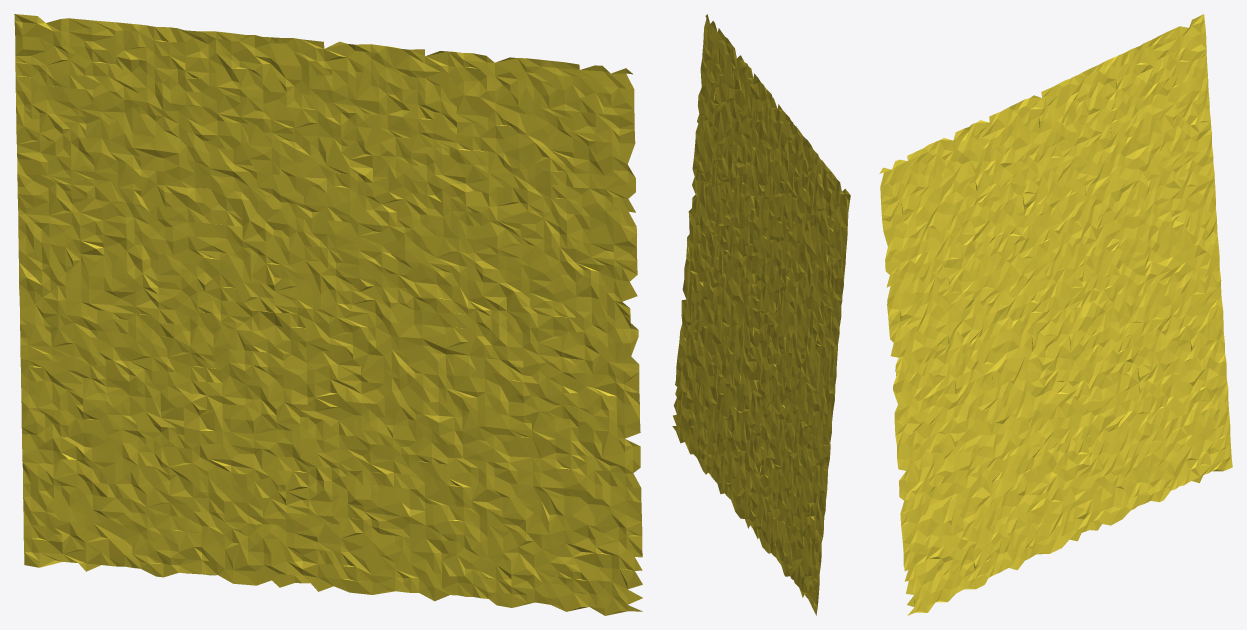
File: hintergrund.fbx
3 renders of one model, left to right at view 1: azimuth 30°, elevation 25°; view 2: azimuth 150°, elevation 25°; view 3: azimuth 270°, elevation 25°, orthographic. The views are drawn at different scales.
Parts seen in each view (by area): view 1: back_verlauf; view 2: back_verlauf; view 3: back_verlauf.
Boxes of the visible parts, x1,y1,x2,y2 form: back_verlauf: [14, 14, 642, 615]; back_verlauf: [672, 14, 850, 615]; back_verlauf: [879, 14, 1232, 615].
Bounding box in the file's own units: 30796 × 38551 × 27853.
